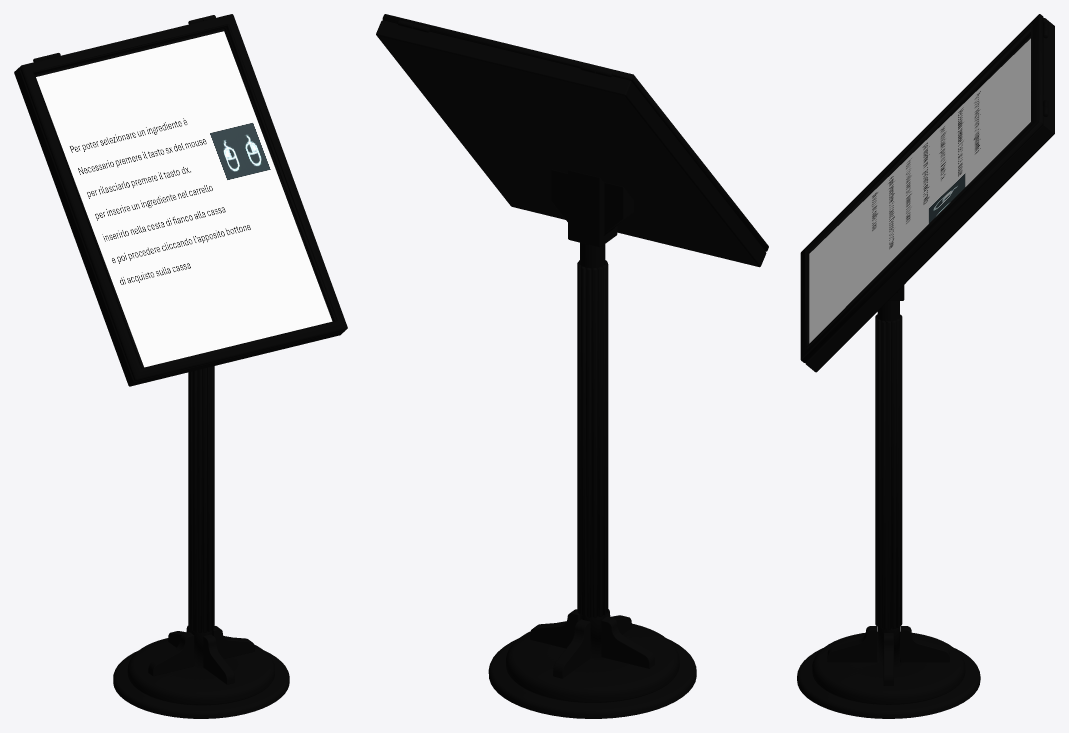
File: info_super.fbx
3 views of the same model, side by side, from view 1: azimuth 30°, elevation 25°; view 2: azimuth 150°, elevation 25°; view 3: azimuth 270°, elevation 25° (orthographic). The views are drawn at different scales.
Visible parts, largest first — view 1: Piano, Menu_stand_03; view 2: Menu_stand_03; view 3: Menu_stand_03, Piano.
Boxes of the visible parts, x1,y1,x2,y2 form: Piano: (36,31,332,367); Menu_stand_03: (14,14,347,718); Menu_stand_03: (376,14,768,718); Menu_stand_03: (797,14,1054,718); Piano: (809,38,1030,343).
Size of the model in its own units: 5000 by 13263 by 5060.
